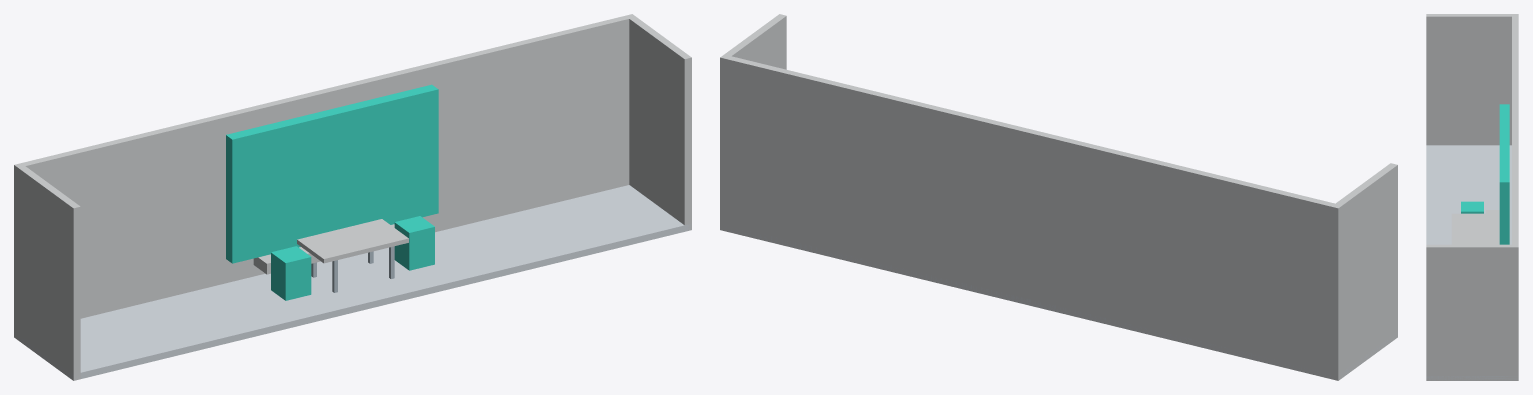
The picture shows the model from 3 angles, left to right: view 1: azimuth 30°, elevation 25°; view 2: azimuth 150°, elevation 25°; view 3: azimuth 270°, elevation 25°; orthographic projection. The views are drawn at different scales.
Parts seen in each view (by area): view 1: Exhibition Booth Concept; view 2: Exhibition Booth Concept; view 3: Exhibition Booth Concept.
Boxes of the visible parts, left/top/right/bottom form: Exhibition Booth Concept: left=14, top=14, right=691, bottom=380; Exhibition Booth Concept: left=720, top=14, right=1397, bottom=380; Exhibition Booth Concept: left=1426, top=14, right=1518, bottom=380.
Size of the model in its own units: 12 by 3.2 by 2.
